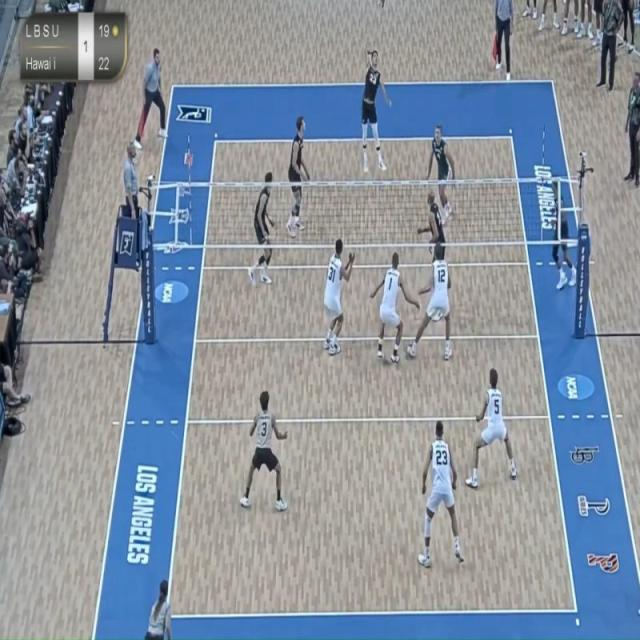volleyball: (376, 0, 387, 18)
